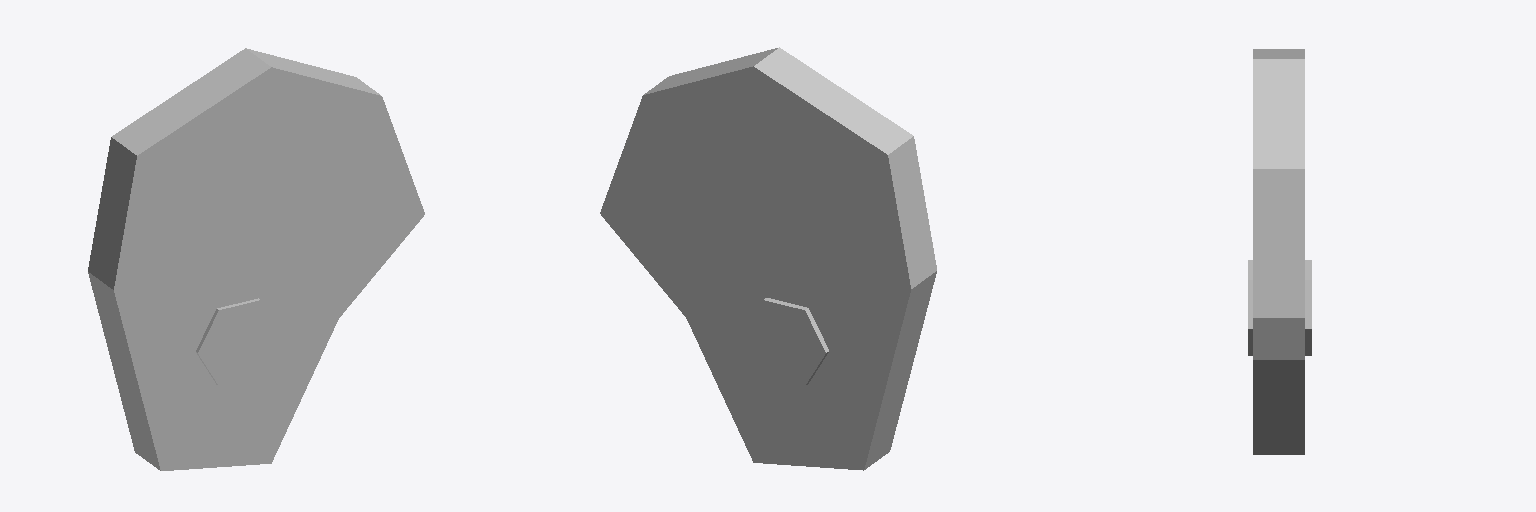
The model's file is misc03.obj.
3 views of the same model, side by side, from view 1: azimuth 30°, elevation 25°; view 2: azimuth 150°, elevation 25°; view 3: azimuth 270°, elevation 25° (orthographic).
Visible parts, largest first — view 1: misc03; view 2: misc03; view 3: misc03.
Part boxes in pixels (bbox=[...]): misc03: bbox=[88, 48, 424, 470]; misc03: bbox=[600, 47, 936, 470]; misc03: bbox=[1248, 49, 1311, 454].
Bounding box in the file's own units: 0.0073 × 0.0088 × 0.0013.